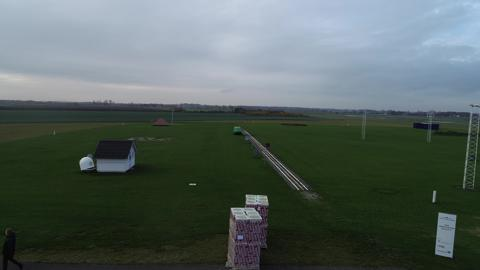RockwoolPallet: (241, 191, 268, 245)
